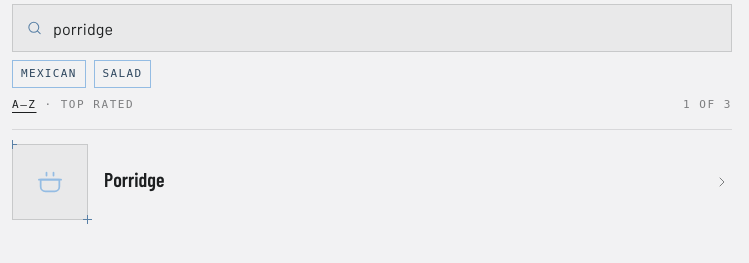
Test: RecipeTable › tags › explains an empty tag on its own
This screenshot has width=749, height=263.
Click the button with aria-label "Filter by tag: mexican".
click(49, 74)  # box [12,60,86,88]
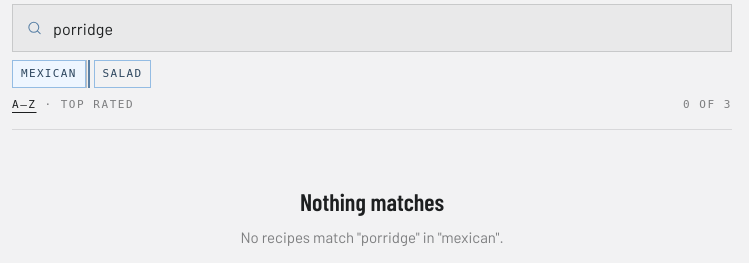
expect the text "No recipes match \"porridge\" in \"mexican\"." is shown: met, box [240,228,504,246]
